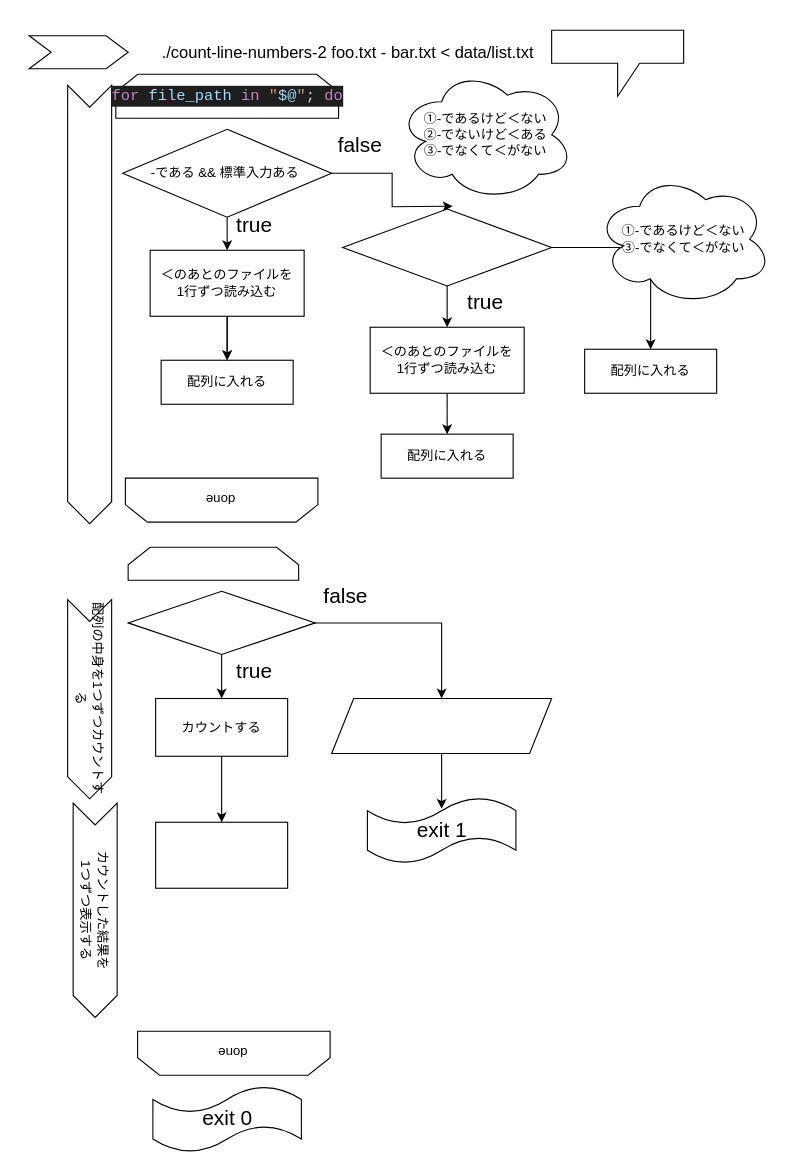
This 791x1172 diagram has some shape labels left out. The box of each missing label's shape, as (x1, y1, x2, y2) in pixels:
for file_name_inputed in " ${array[@]} " ; do: (127, 546, 299, 580)
②-でない && 標準入力ある: (342, 208, 552, 286)
エラー文 エラー: ファイル /not/exists.txt の処理中にエラーが発生しました。: (331, 697, 552, 754)
パラメータ: $1: (551, 29, 684, 96)
ファイルが存在しているか？: (127, 590, 315, 654)
主処理: (28, 35, 128, 69)
引数を1つずつ配列に入れる: (67, 84, 112, 524)
表示する: (155, 821, 288, 888)
